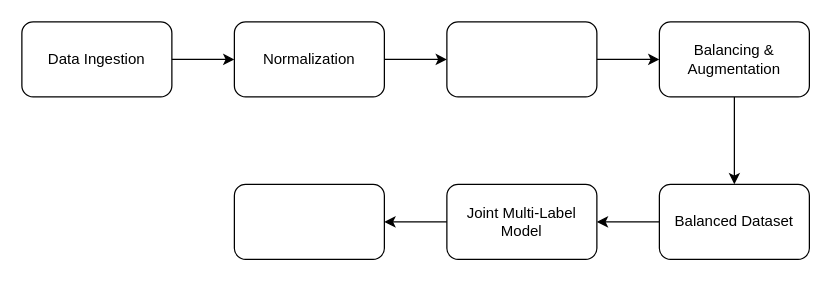
The diagram is 831 pixels wide and 281 high, and some of its shapes have lost their labels. Each missing label, with the box of its shape:
Evaluation: (233, 183, 384, 259)
Label Frequency Analysis: (446, 21, 597, 97)
